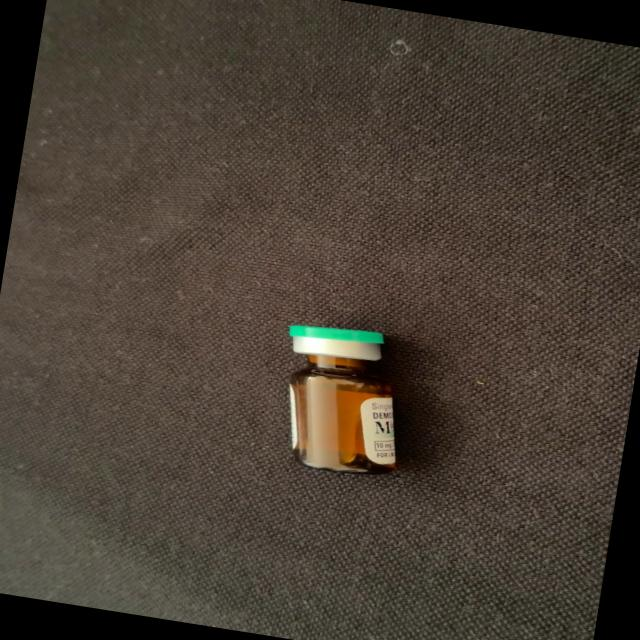midazolm: (272, 320, 414, 477)
